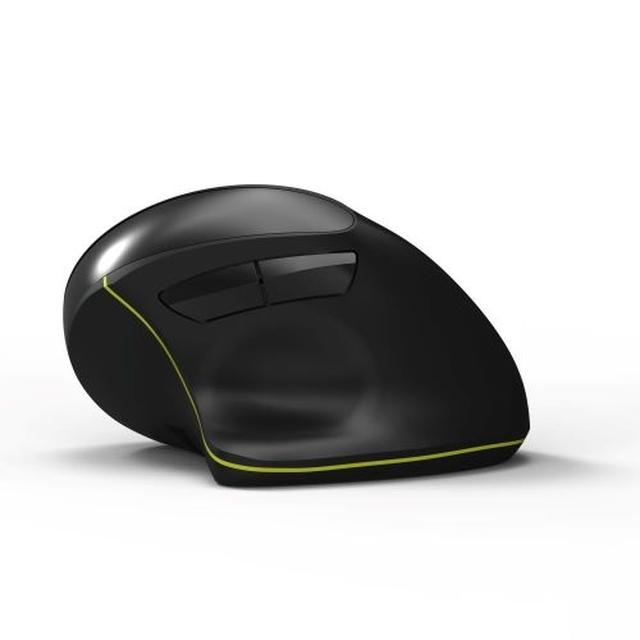mouse: (66, 155, 545, 503)
